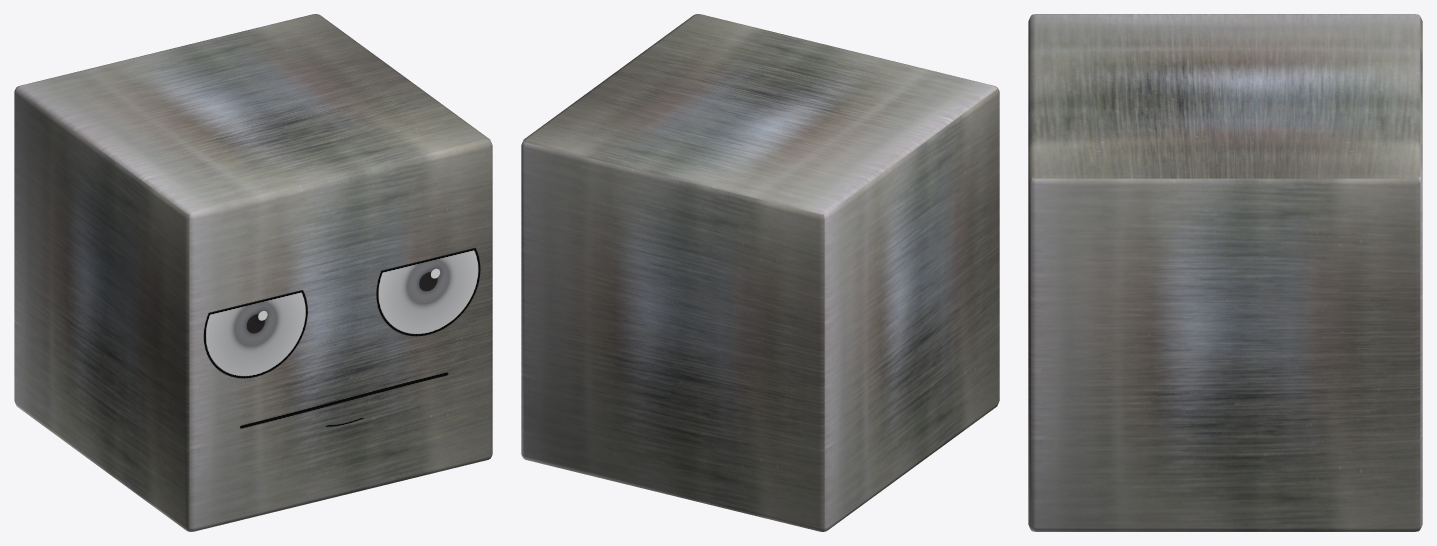
File: Metal.FBX
3 views of the same model, side by side, from view 1: azimuth 30°, elevation 25°; view 2: azimuth 150°, elevation 25°; view 3: azimuth 270°, elevation 25° (orthographic). The views are drawn at different scales.
Visible parts, largest first — view 1: hooker; view 2: hooker; view 3: hooker.
Part boxes in pixels (<box>): hooker: <box>14,14,492,531</box>; hooker: <box>521,14,999,531</box>; hooker: <box>1028,14,1422,531</box>.
Size of the model in its own units: 100 by 100 by 100.
Materials: 2 (2 with a texture image).
